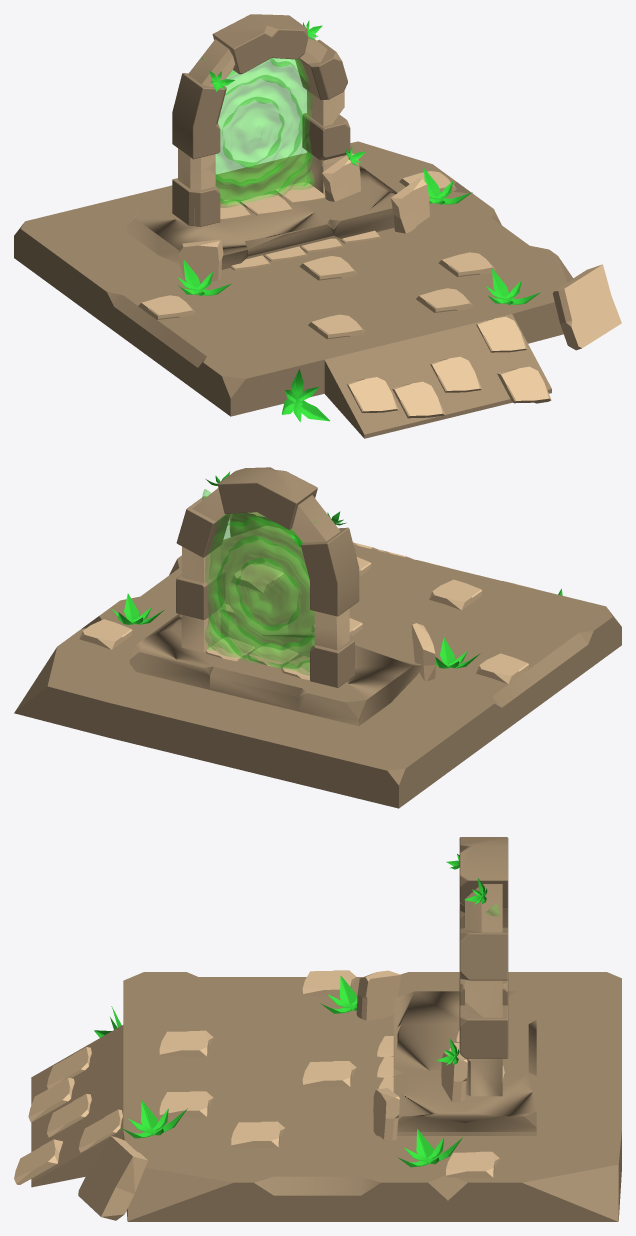
Rendered from portal.gltf.
The picture shows the model from 3 angles, top to bottom: view 1: azimuth 30°, elevation 25°; view 2: azimuth 150°, elevation 25°; view 3: azimuth 270°, elevation 25°; orthographic projection. The views are drawn at different scales.
Visible parts, largest first — view 1: Platform, BrickOut, Portal, Floor, PortalMain, Cube.018, Cube.009, Cube.010, Cube.003, Cube.001, Cube.002, Cube (+13 smaller); view 2: Platform, Portal, Floor, BrickOut, PortalMain, Cube.014, Cube.011, Cube.017, Cube.012, Cube.010, Cube.018, Cube.006 (+4 smaller); view 3: Platform, Floor, BrickOut, PortalMain, Cube.018, Cube.010, Cube.012, Cube.017, Cube.011, Cube.009, Cube.016, Cube.013 (+10 smaller).
Boxes of the visible parts, <box> form: Platform: <box>14,141,573,438</box>; BrickOut: <box>172,14,350,226</box>; Portal: <box>201,33,315,207</box>; Floor: <box>127,165,397,269</box>; PortalMain: <box>178,37,344,226</box>; Cube.018: <box>552,264,621,350</box>; Cube.009: <box>391,178,429,233</box>; Cube.010: <box>178,239,223,282</box>; Cube.003: <box>497,366,551,403</box>; Cube.001: <box>392,381,444,418</box>; Cube.002: <box>430,356,481,392</box>; Cube: <box>346,377,398,412</box>; Platform: <box>14,526,621,808</box>; Portal: <box>202,489,316,675</box>; Floor: <box>129,613,422,726</box>; BrickOut: <box>176,467,359,687</box>; PortalMain: <box>181,488,349,652</box>; Cube.014: <box>476,653,528,684</box>; Cube.011: <box>79,619,132,649</box>; Cube.017: <box>429,579,482,610</box>; Cube.012: <box>231,562,283,592</box>; Cube.010: <box>411,623,435,681</box>; Cube.018: <box>229,512,292,536</box>; Cube.006: <box>248,643,298,667</box>; Platform: <box>31,972,621,1221</box>; Floor: <box>393,991,536,1135</box>; BrickOut: <box>459,837,508,1058</box>; PortalMain: <box>465,884,502,1096</box>; Cube.018: <box>78,1136,147,1220</box>; Cube.010: <box>356,970,401,1020</box>; Cube.012: <box>231,1121,284,1147</box>; Cube.017: <box>159,1030,213,1056</box>; Cube.011: <box>446,1151,499,1177</box>; Cube.009: <box>373,1088,399,1140</box>; Cube.016: <box>302,1061,356,1086</box>; Cube.013: <box>159,1091,213,1117</box>.
Size of the model in its own units: 7.09 by 4.49 by 8.5.
